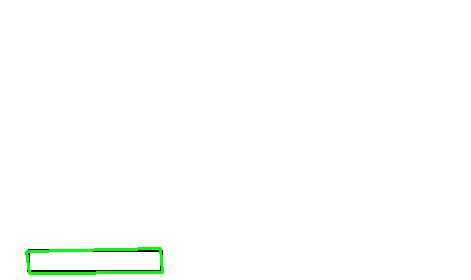line_segment: (26, 248, 164, 274)
